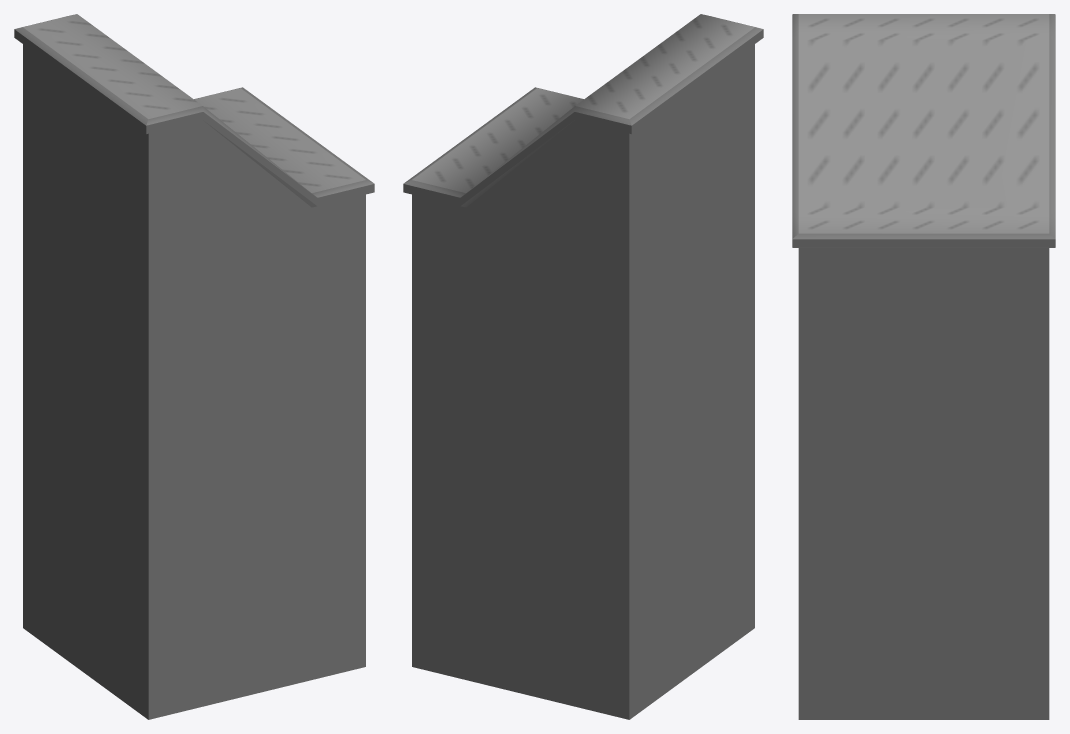
Rendered from Stone 1 U 2.fbx.
3 renders of one model, left to right at view 1: azimuth 30°, elevation 25°; view 2: azimuth 150°, elevation 25°; view 3: azimuth 270°, elevation 25°, orthographic.
Parts seen in each view (by area): view 1: Stone_1_U__2; view 2: Stone_1_U__2; view 3: Stone_1_U__2.
Part boxes in pixels (box(x1,y1,x2,y2)): Stone_1_U__2: box(14, 14, 374, 719); Stone_1_U__2: box(403, 14, 763, 719); Stone_1_U__2: box(792, 14, 1055, 719).
Size of the model in its own units: 4.2 by 10.55 by 4.2.
